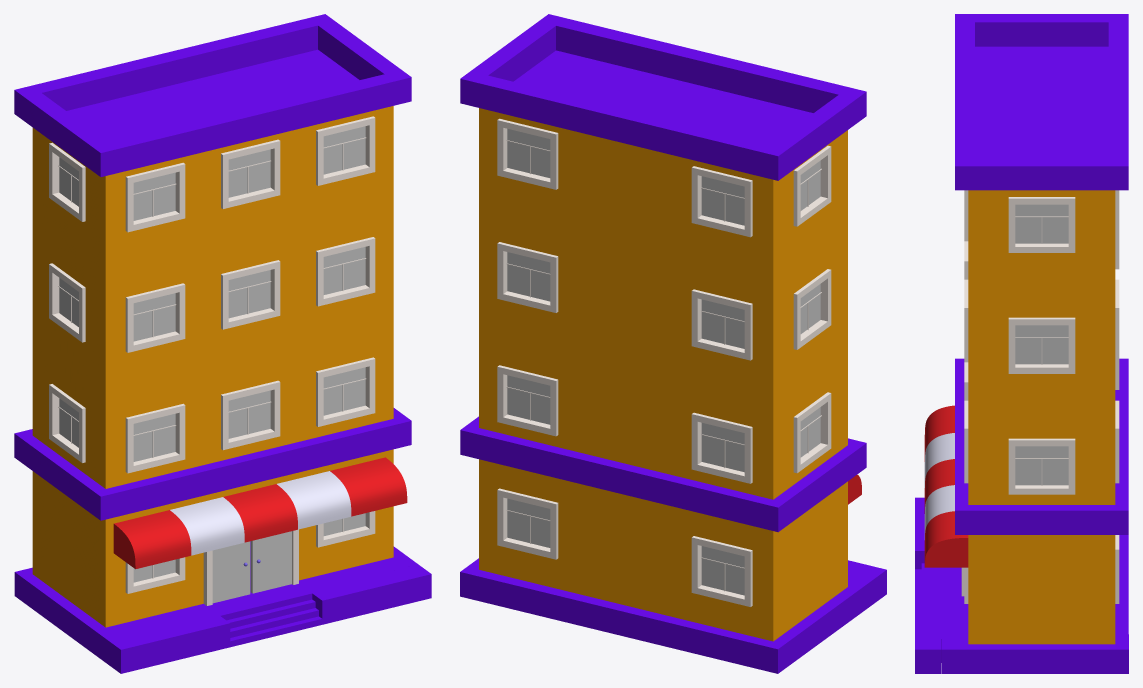
The model's file is BUILD_5.fbx.
3 renders of one model, left to right at view 1: azimuth 30°, elevation 25°; view 2: azimuth 150°, elevation 25°; view 3: azimuth 270°, elevation 25°, orthographic. The views are drawn at different scales.
Parts seen in each view (by area): view 1: BUILD_5; view 2: BUILD_5; view 3: BUILD_5.
Boxes of the visible parts, x1=… form: BUILD_5: x1=14, y1=14, x2=431, y2=673; BUILD_5: x1=460, y1=14, x2=886, y2=673; BUILD_5: x1=915, y1=14, x2=1128, y2=673.
Size of the model in its own units: 10630 by 16535 by 6308.
7 materials, 7 textured.
